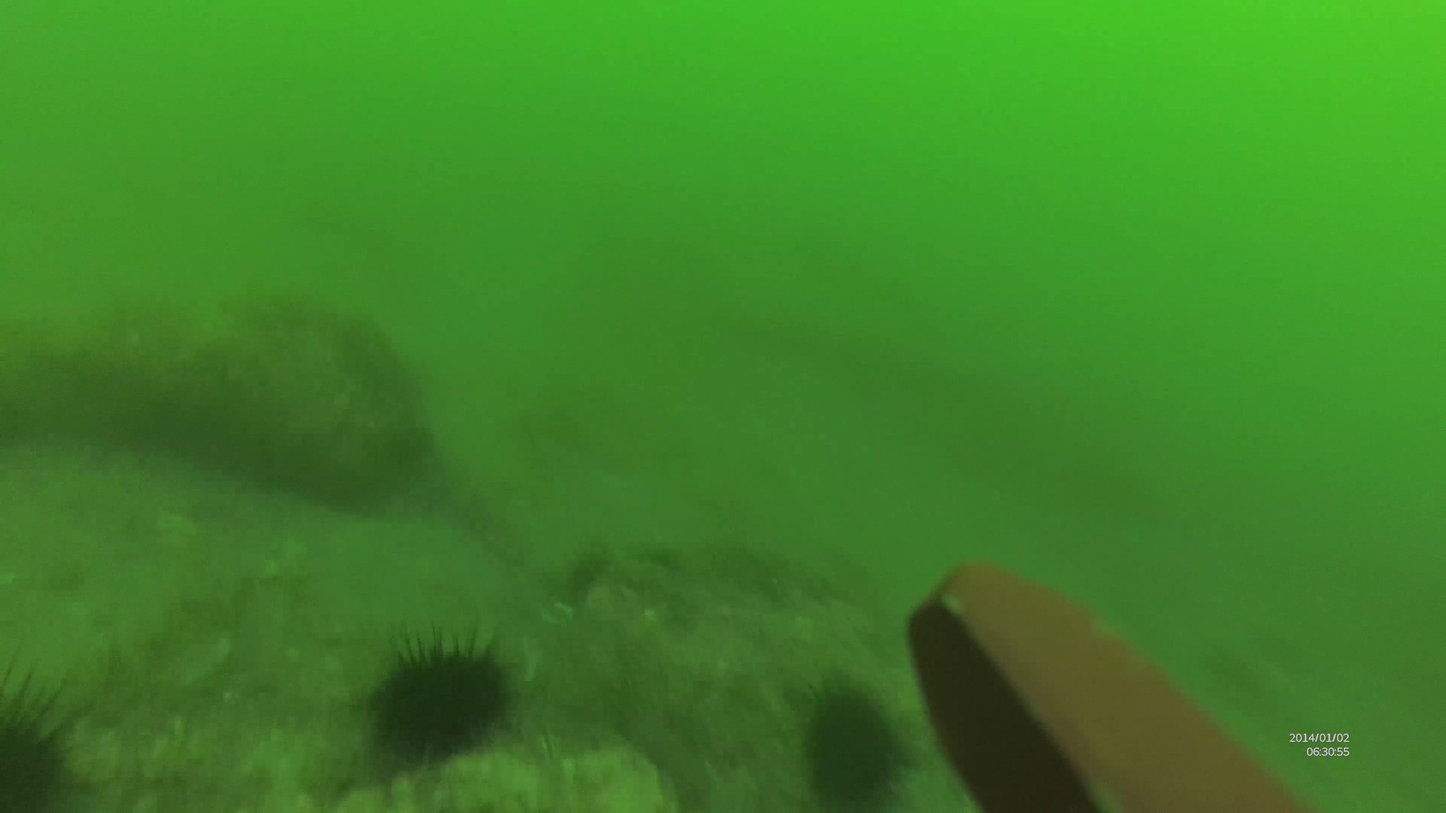starfish: (352, 629, 514, 770), (795, 684, 923, 813), (8, 660, 102, 813)
